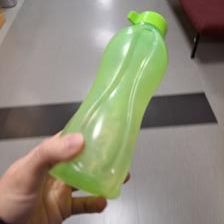bottle: (44, 11, 170, 202)
